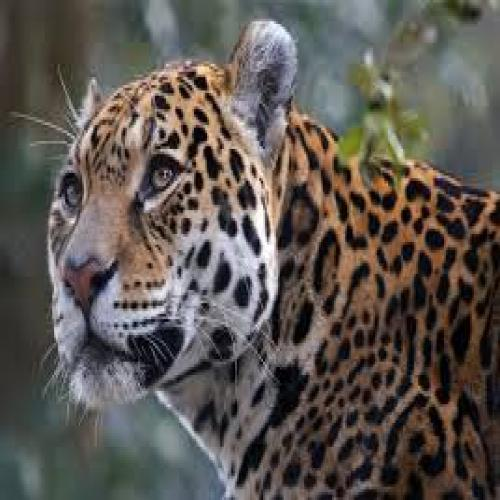jaguar_not-endangered: (49, 55, 499, 499)
